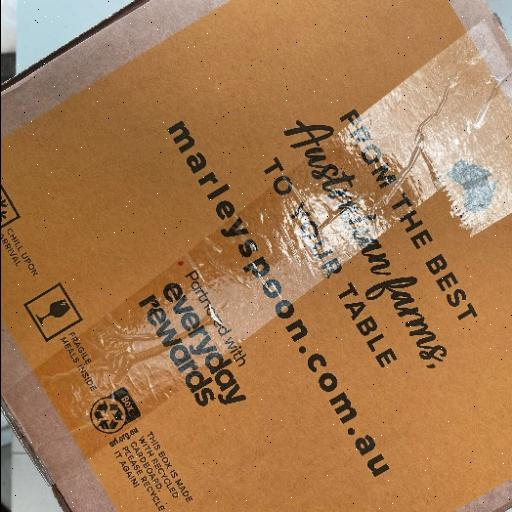Cardboard: (3, 1, 511, 509)
